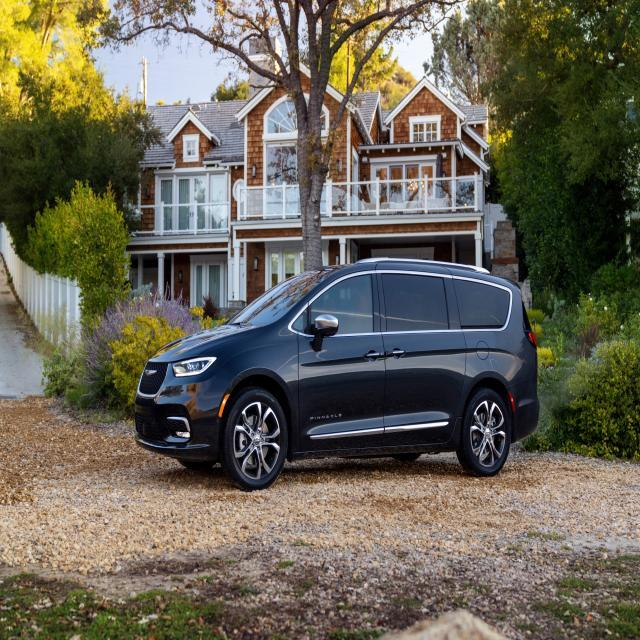minivan: (132, 255, 540, 491)
